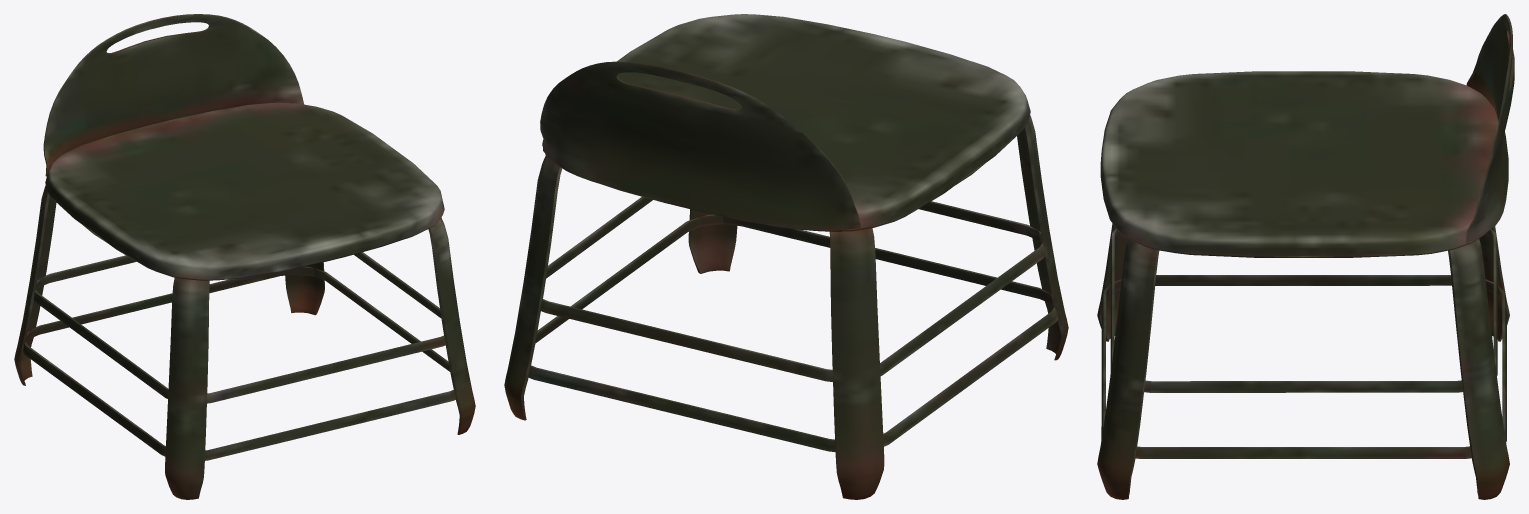
The model's file is ph-metal-stool-03.glb.
3 renders of one model, left to right at view 1: azimuth 30°, elevation 25°; view 2: azimuth 150°, elevation 25°; view 3: azimuth 270°, elevation 25°, orthographic. The views are drawn at different scales.
Visible parts, largest first — view 1: metal_stool_03; view 2: metal_stool_03; view 3: metal_stool_03.
Boxes of the visible parts, box(x1,y1,x2,y2) form: metal_stool_03: box(14, 14, 475, 499); metal_stool_03: box(504, 14, 1068, 499); metal_stool_03: box(1097, 14, 1514, 499).
Bounding box in the file's own units: 1 × 1 × 1.
Materials: 1 (1 with a texture image).
